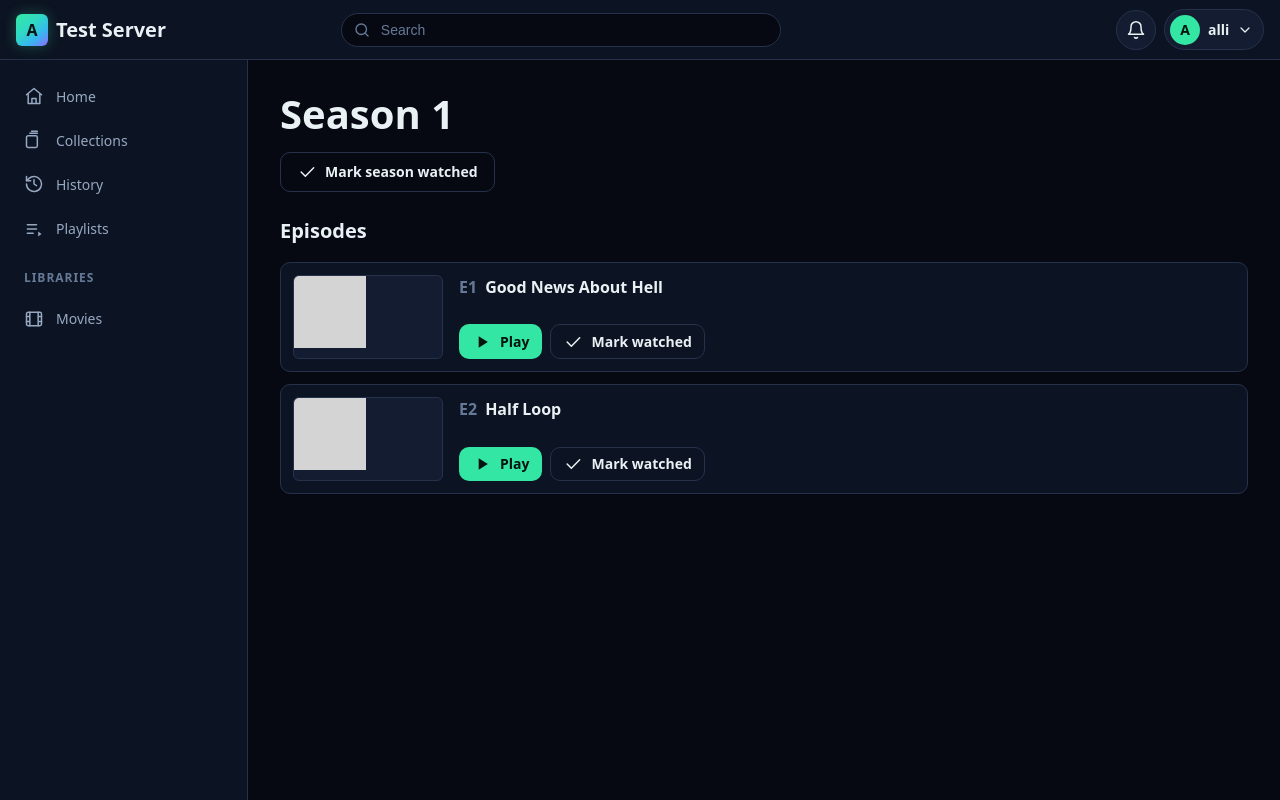
ItemDetailPage — season › marks the whole season watched via the season action
The image size is (1280, 800).
What coordinates should you click on to do the following:
click the button "Mark season watched"
I would click on:
 (387, 172)
Its box is [280, 152, 494, 192].
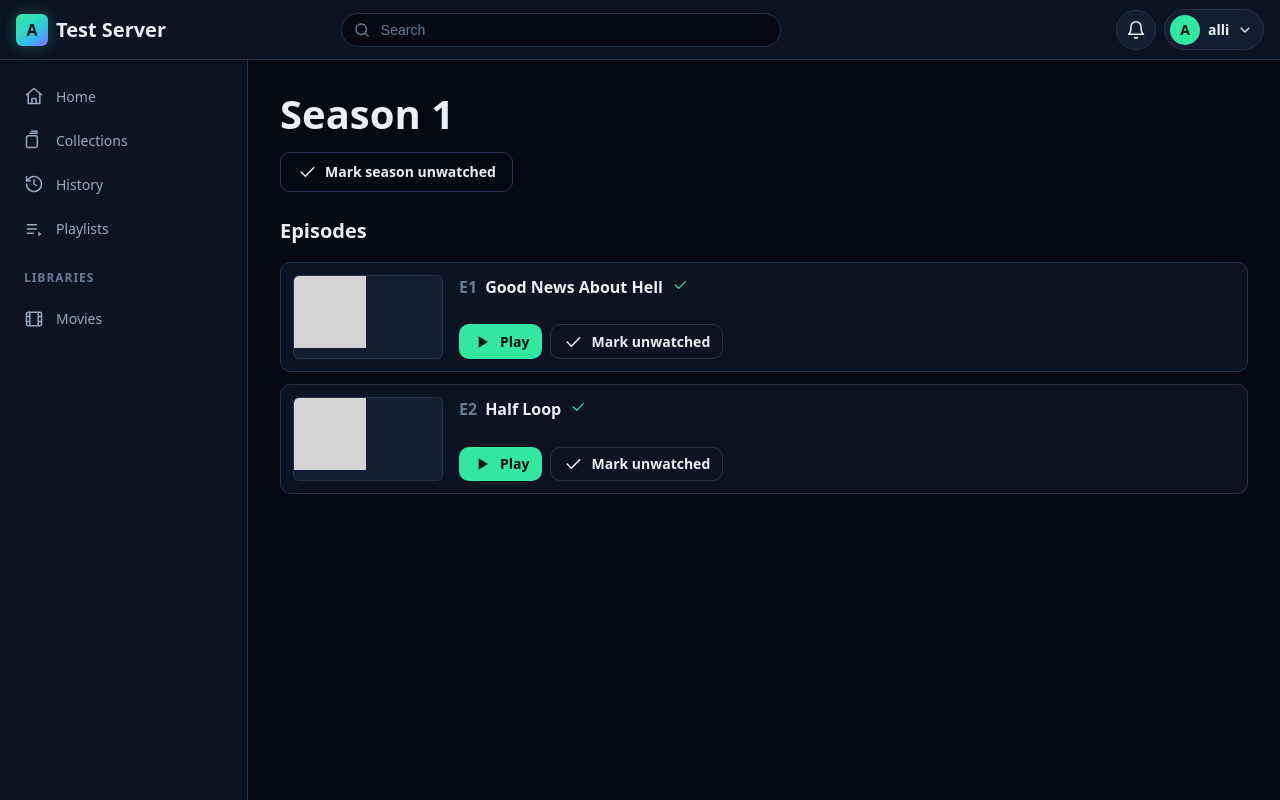
Now the button "Mark season unwatched" is shown, box [280, 152, 513, 192]
